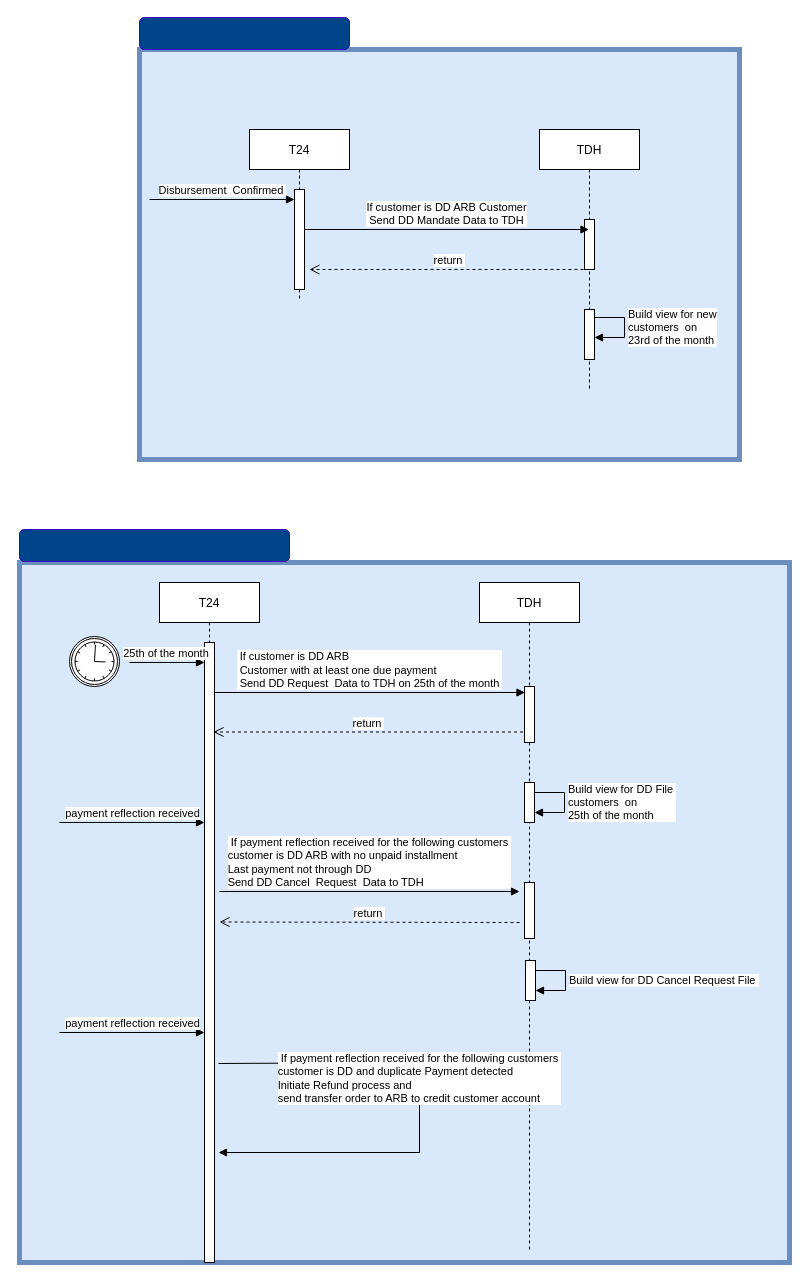
This 809x1282 diagram has some shape labels left out. The shapes that lost their labels are listed below. From the top down, each one's centre as x and y in pixels, then its label:
[244,33]: Mandate Request
[154,545]: Direct Deduction Flow
